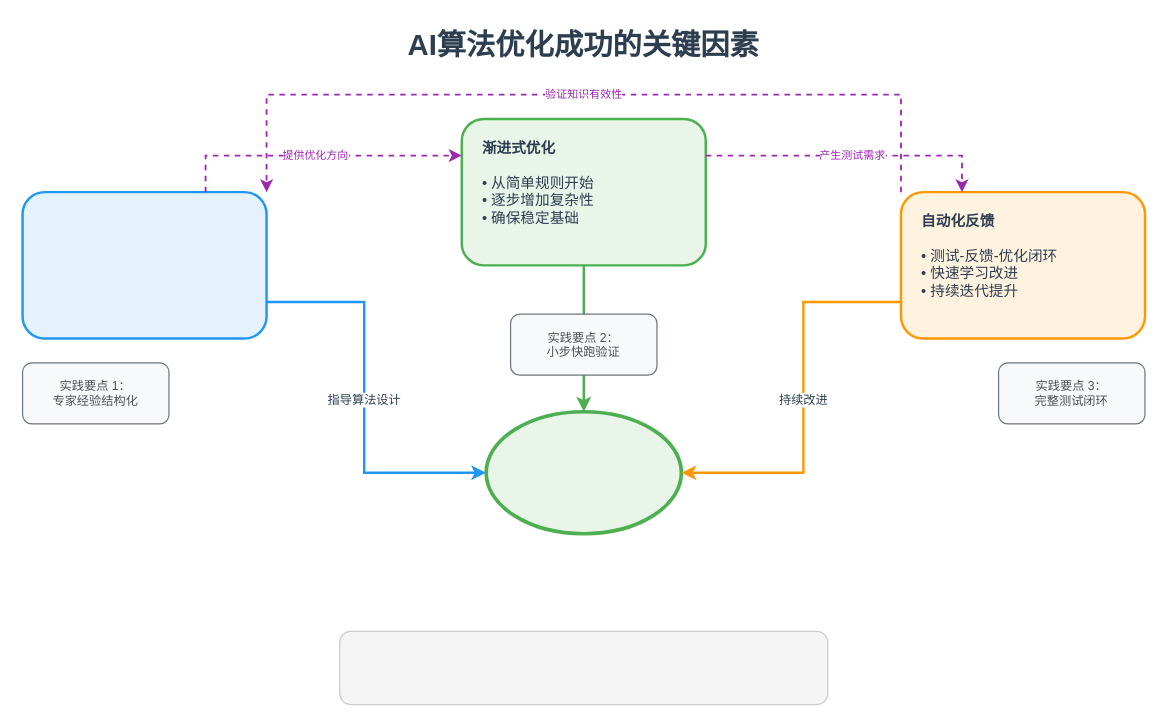
This 1166x726 diagram has some shape labels left out. The shapes that lost their labels are listed below. From the top down, each one's centre as x and y in pixels, then its label:
At (144,264): "领域知识注入 • 结构化专家经验 • 提供上下文指导 • 提升生成质量".
At (583,472): "成功的 关键循环".
At (583,667): "💡 三个关键因素形成相互促进的反馈循环， 共同驱动 AI 算法优化过程的成功".
